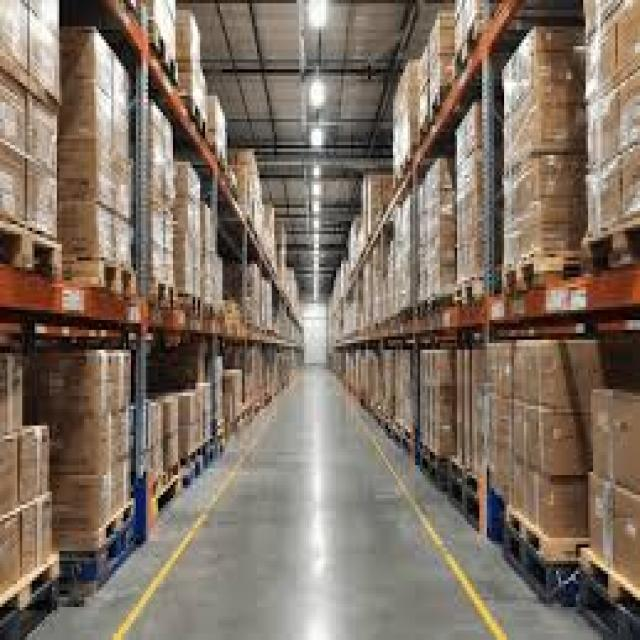box: (25, 350, 130, 550), (505, 27, 585, 267), (57, 27, 133, 277), (25, 350, 128, 475), (586, 0, 639, 237), (505, 27, 585, 164), (514, 340, 639, 412), (505, 156, 585, 263), (505, 27, 585, 115), (60, 83, 116, 207), (25, 350, 116, 422), (60, 27, 116, 141), (0, 0, 59, 102), (455, 103, 486, 283), (418, 159, 457, 300), (62, 30, 113, 135), (589, 476, 639, 583), (40, 406, 111, 475), (52, 472, 113, 550), (524, 406, 590, 478), (594, 390, 639, 491), (450, 350, 484, 475), (57, 202, 116, 273), (527, 472, 588, 537), (421, 350, 457, 458), (173, 162, 200, 296), (458, 152, 484, 283), (176, 10, 207, 118), (591, 390, 627, 481), (487, 344, 516, 451), (393, 60, 420, 174), (28, 10, 61, 102), (586, 156, 622, 237), (428, 10, 454, 118), (586, 17, 620, 98), (586, 90, 620, 171), (149, 344, 205, 392), (20, 492, 51, 577), (151, 106, 175, 214), (613, 485, 639, 583), (173, 202, 200, 296), (589, 472, 615, 567), (470, 350, 489, 478), (18, 426, 49, 504), (490, 396, 513, 501), (391, 198, 412, 313), (230, 149, 261, 224), (25, 162, 56, 237), (201, 205, 222, 310), (0, 73, 27, 151), (0, 0, 29, 72), (112, 63, 130, 178), (112, 159, 133, 257), (0, 146, 27, 221), (361, 172, 392, 237), (146, 0, 177, 59), (393, 350, 415, 432), (0, 353, 22, 435), (455, 0, 484, 59), (178, 63, 207, 122), (201, 202, 217, 306), (151, 208, 172, 287), (455, 350, 469, 468), (621, 60, 639, 151), (487, 344, 516, 399), (618, 0, 639, 75), (514, 459, 538, 524), (178, 393, 202, 458), (0, 512, 19, 593), (0, 436, 19, 517), (458, 103, 484, 161), (510, 459, 533, 521), (161, 396, 180, 471), (621, 142, 639, 221), (20, 502, 39, 574), (206, 96, 227, 161), (176, 10, 200, 65), (421, 350, 434, 451), (584, 0, 620, 36), (109, 350, 130, 409), (512, 400, 531, 465), (245, 347, 266, 405), (109, 410, 130, 465), (38, 492, 54, 564), (223, 370, 242, 428), (257, 205, 276, 263), (149, 403, 163, 478), (28, 0, 59, 32), (112, 459, 130, 514), (418, 43, 429, 131), (381, 350, 395, 418), (107, 350, 123, 409), (176, 162, 200, 201), (196, 383, 212, 438), (178, 423, 202, 458), (146, 400, 163, 445), (213, 357, 224, 425), (178, 390, 197, 425), (275, 222, 286, 280), (164, 433, 180, 471), (213, 255, 222, 313)
